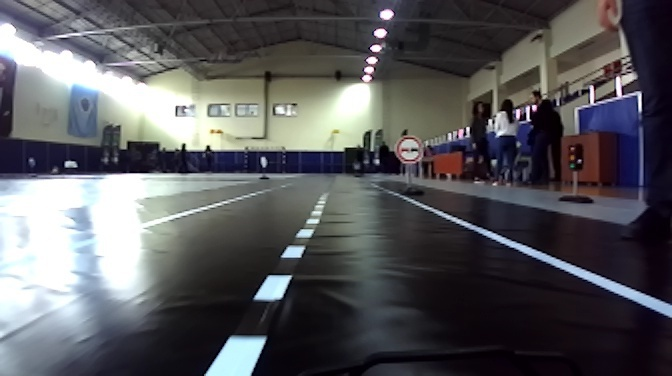sollama_yasak: (398, 135, 423, 164)
